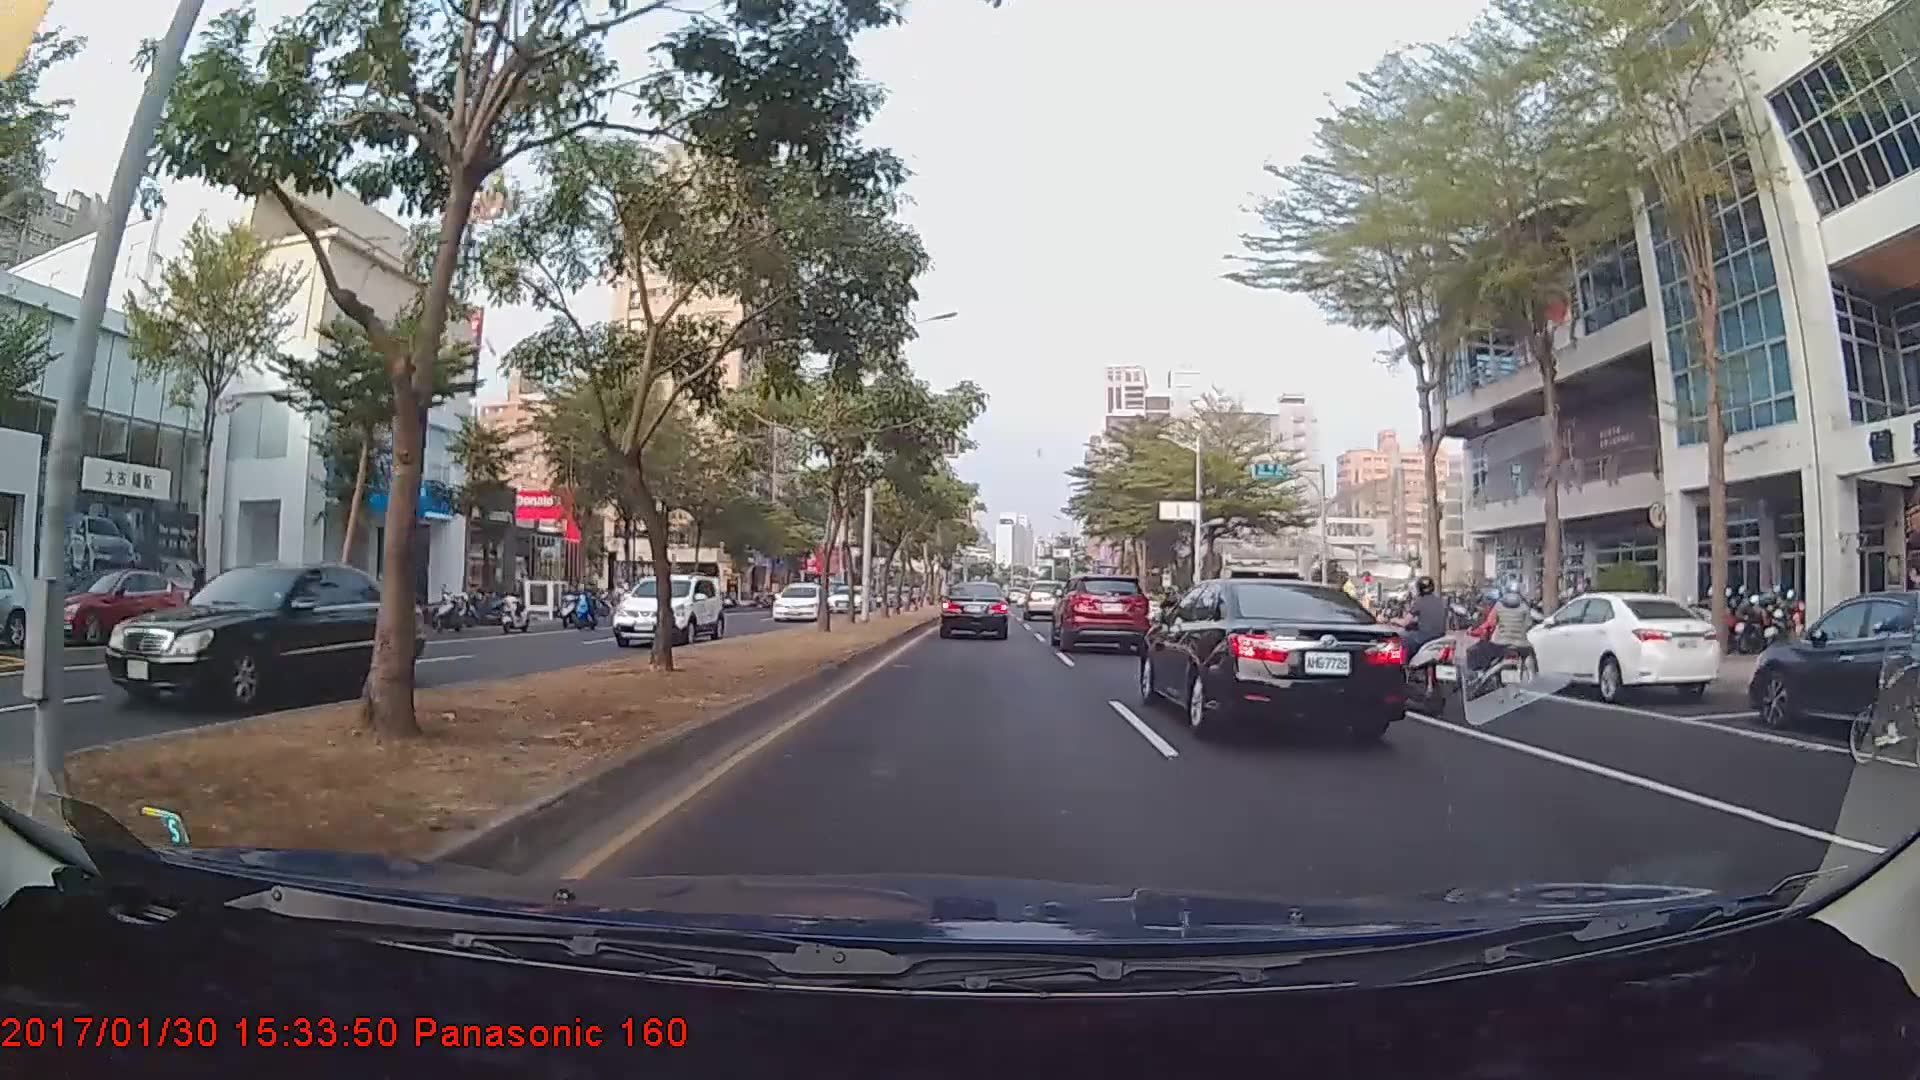rider: (1839, 559, 1920, 773), (1389, 572, 1476, 723), (1459, 578, 1537, 707)
vehicle: (106, 561, 432, 706), (1146, 568, 1399, 744), (1745, 587, 1920, 735), (1535, 585, 1721, 700), (43, 568, 191, 643), (609, 572, 726, 648), (1054, 572, 1149, 653), (939, 579, 1010, 640), (0, 557, 33, 646), (769, 581, 829, 620), (1025, 581, 1057, 619)
